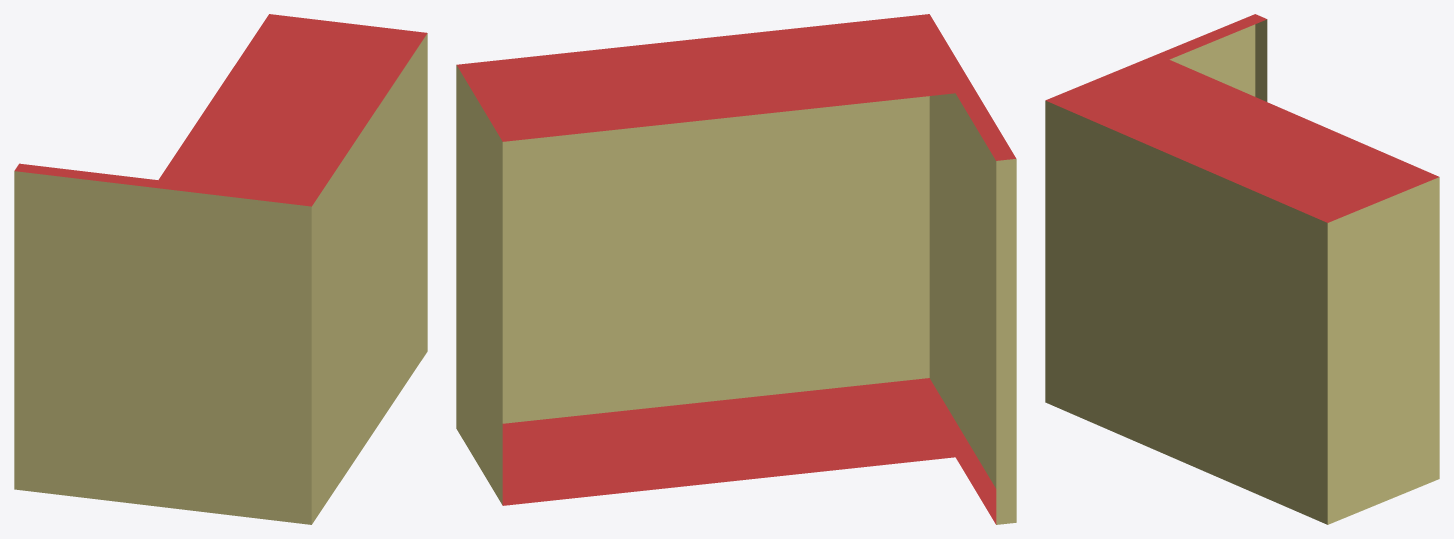
The picture shows the model from 3 angles, left to right: view 1: azimuth 30°, elevation 25°; view 2: azimuth 150°, elevation 25°; view 3: azimuth 270°, elevation 25°; orthographic projection. The views are drawn at different scales.
Size of the model in its own units: 14.17 by 11.3 by 9.54.
